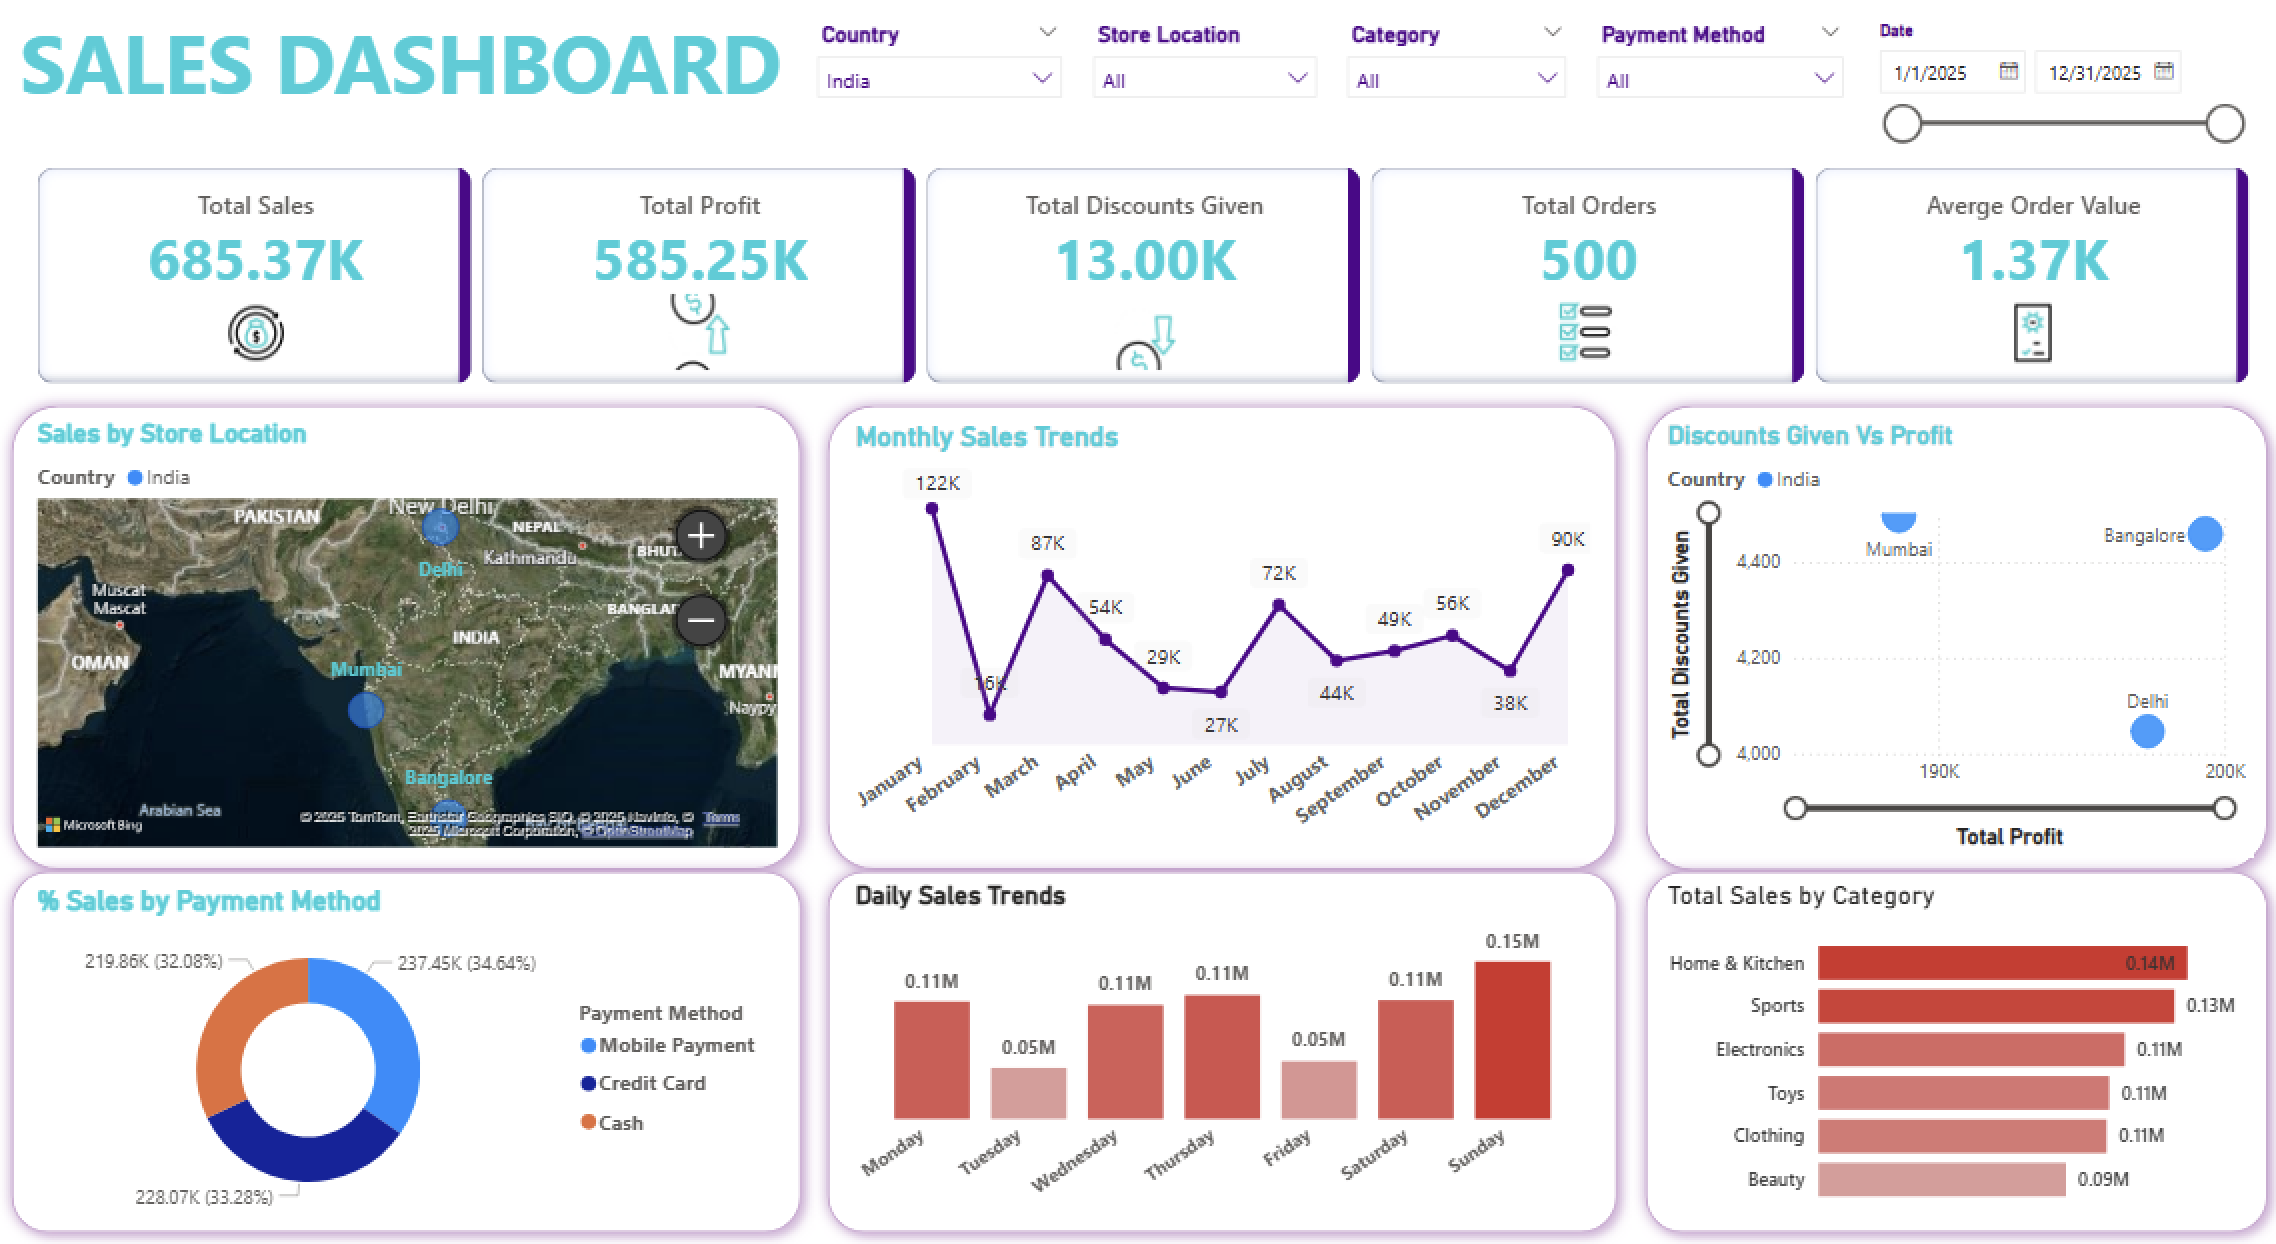

What the dashboard file says about the page in this screenshot:
{"tool":"powerbi","page":{"name":"Page 1","canvas":[1500,820],"ordinal":0},"visuals":[{"type":"cardVisual","fields":{"Data":["public Sales Data.Total Sales","public Sales Data.Total Profit","public Sales Data.Total Discounts Given","public Sales Data.Total Orders","public Sales Data.Averge Order Value"]},"box":[20.9,106.1,1464.1,152.4],"z":0},{"type":"shape","box":[0,258.5,536.4,322.7],"z":1000},{"type":"textbox","box":[0,0,528.9,89.6],"z":2000},{"type":"slicer","fields":{"Values":["public Sales Data.Country"]},"box":[528.9,10.5,180.8,68.7],"z":3000},{"type":"slicer","fields":{"Values":["public Sales Data.Store Location"]},"box":[709.7,10.5,167.3,68.7],"z":4000},{"type":"slicer","fields":{"Values":["public Sales Data.Category"]},"box":[877,10.5,164.3,68.7],"z":5000},{"type":"slicer","fields":{"Values":["public Sales Data.Payment Method"]},"box":[1041.3,10.5,182.3,68.7],"z":6000},{"type":"slicer","fields":{"Values":["public Sales Data.Date"]},"box":[1223.6,10.5,261.5,95.6],"z":7000},{"type":"map","title":"Sales by Store Location","fields":{"Category":["public Sales Data.Store Location"],"Size":["public Sales Data.Total Sales"],"Series":["public Sales Data.Country"]},"box":[20.9,276.4,496,286.9],"z":8000},{"type":"shape","box":[536.4,258.5,536.4,322.7],"z":9000},{"type":"areaChart","title":"Monthly Sales Trends","fields":{"Category":["public Sales Data.Month Name"],"Y":["public Sales Data.Total Sales"]},"box":[558.3,276.7,493.3,286.7],"z":10000},{"type":"shape","box":[536.7,565,536.7,255],"z":11000},{"type":"columnChart","title":"Daily Sales Trends","fields":{"Category":["public Sales Data.Day Name"],"Y":["public Sales Data.Total Sales"]},"box":[558.3,580,493.3,225],"z":12000},{"type":"shape","box":[0,565,536.7,255],"z":13000},{"type":"donutChart","title":"% Sales by Payment Method","fields":{"Category":["public Sales Data.Payment Method"],"Y":["public Sales Data.Total Sales"]},"box":[21.7,581.7,496.7,223.3],"z":14000},{"type":"shape","box":[1073.3,258.3,426.7,323.3],"z":15000},{"type":"scatterChart","title":"Discounts Given Vs Profit","fields":{"Y":["public Sales Data.Total Discounts Given"],"Category":["public Sales Data.Store Location"],"Series":["public Sales Data.Country"],"Size":["public Sales Data.Total Orders"],"X":["public Sales Data.Total Profit"]},"box":[1091.7,276.7,390,286.7],"z":16000},{"type":"shape","box":[1073.3,565,426.7,255],"z":17000},{"type":"barChart","fields":{"Category":["public Sales Data.Category"],"Y":["public Sales Data.Total Sales"]},"box":[1091.7,580,390,225],"z":18000}]}

Visuals, with their boxes in screenshot pixels (x1, y1, x2, y2), scaled from the page's 1500x820 canvas onto the 2276x1244 screenshot:
cardVisual - public Sales Data.Total Sales x public Sales Data.Total Profit: 32, 161, 2253, 392
shape: 0, 392, 814, 882
textbox: 0, 0, 803, 136
slicer - public Sales Data.Country: 803, 16, 1077, 120
slicer - public Sales Data.Store Location: 1077, 16, 1331, 120
slicer - public Sales Data.Category: 1331, 16, 1580, 120
slicer - public Sales Data.Payment Method: 1580, 16, 1857, 120
slicer - public Sales Data.Date: 1857, 16, 2253, 161
"Sales by Store Location" map: 32, 419, 784, 855
shape: 814, 392, 1628, 882
"Monthly Sales Trends" areaChart: 847, 420, 1596, 855
shape: 814, 857, 1629, 1243
"Daily Sales Trends" columnChart: 847, 880, 1596, 1221
shape: 0, 857, 814, 1243
"% Sales by Payment Method" donutChart: 33, 882, 787, 1221
shape: 1629, 392, 2275, 882
"Discounts Given Vs Profit" scatterChart: 1656, 420, 2248, 855
shape: 1629, 857, 2275, 1243
barChart - public Sales Data.Category x public Sales Data.Total Sales: 1656, 880, 2248, 1221
